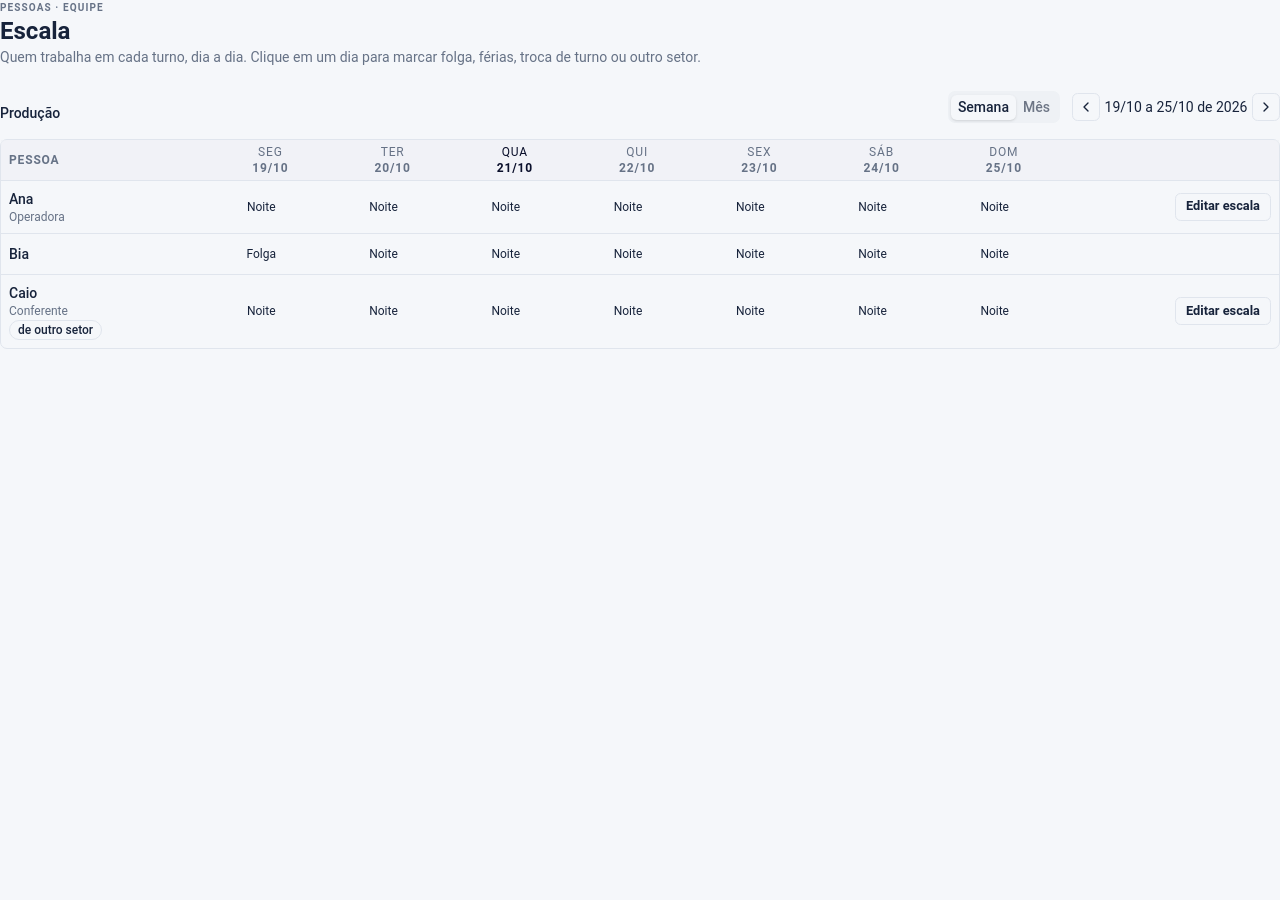
Test case: /escala: células › célula de linha editável abre o diálogo da exceção para aquele dia
The width and height of the screenshot is (1280, 900).
What coordinates should you click on to do the following:
click the 1st button "Noite"
I would click on:
 (261, 206)
Its box is left=213, top=190, right=309, bottom=222.
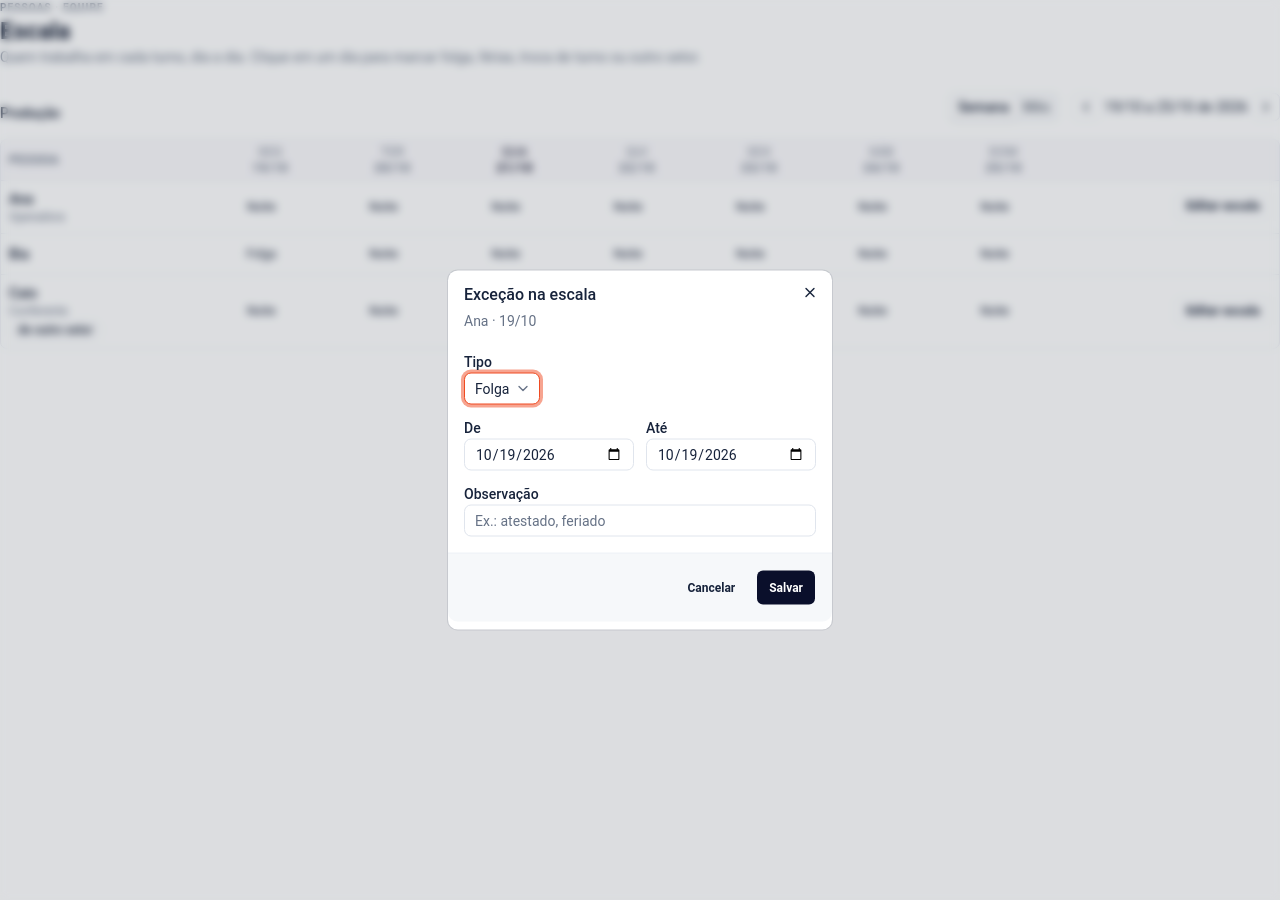
expect the text "Ana · 19/10" is shown: met, box left=464, top=312, right=536, bottom=328
